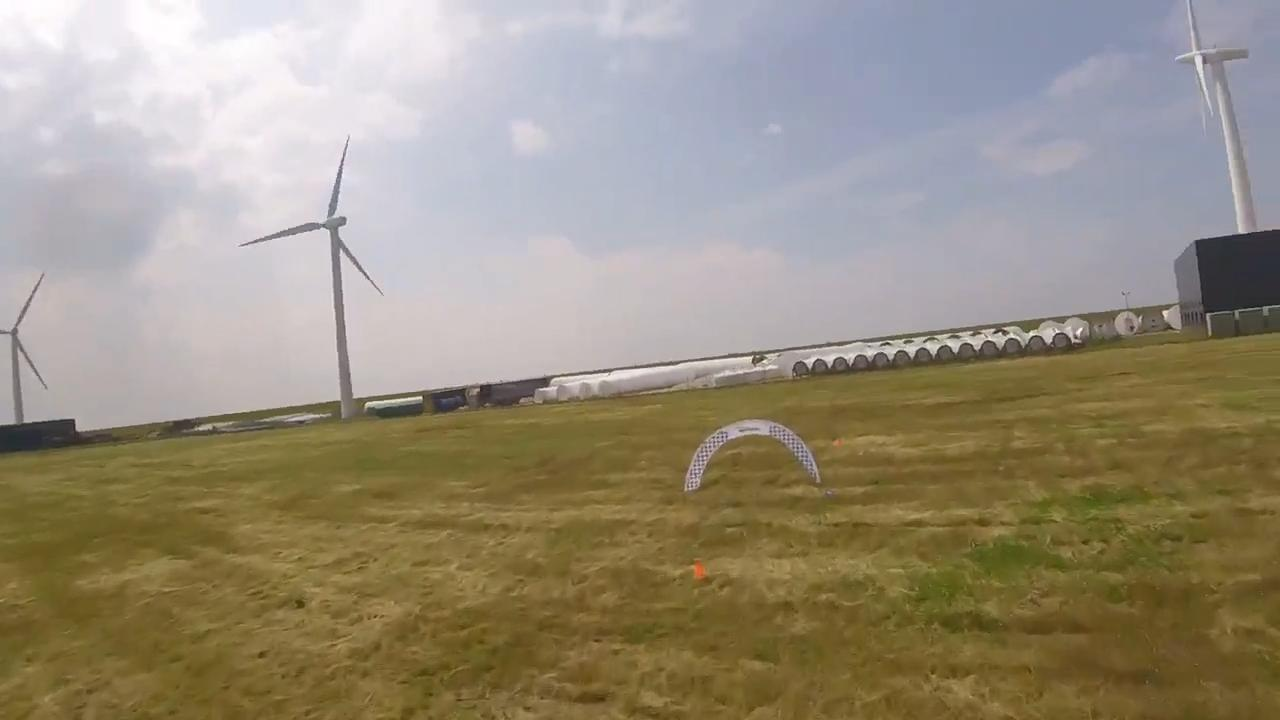gate: (684, 417, 819, 490)
